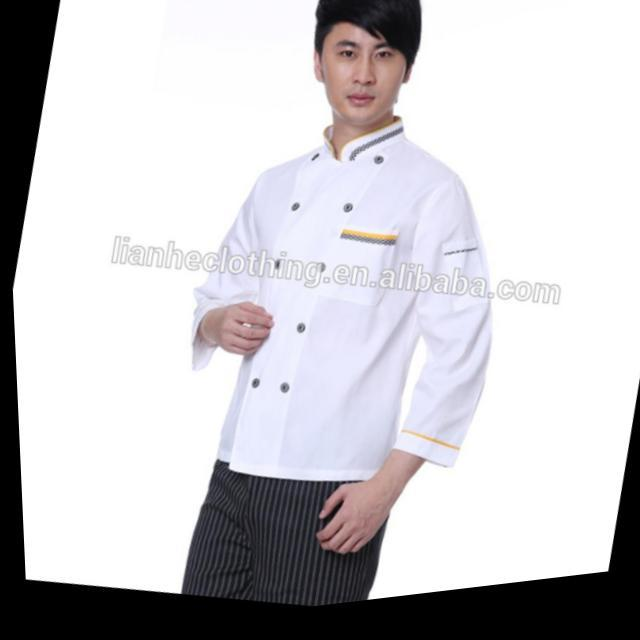Nonhelmet: (310, 0, 424, 130)
